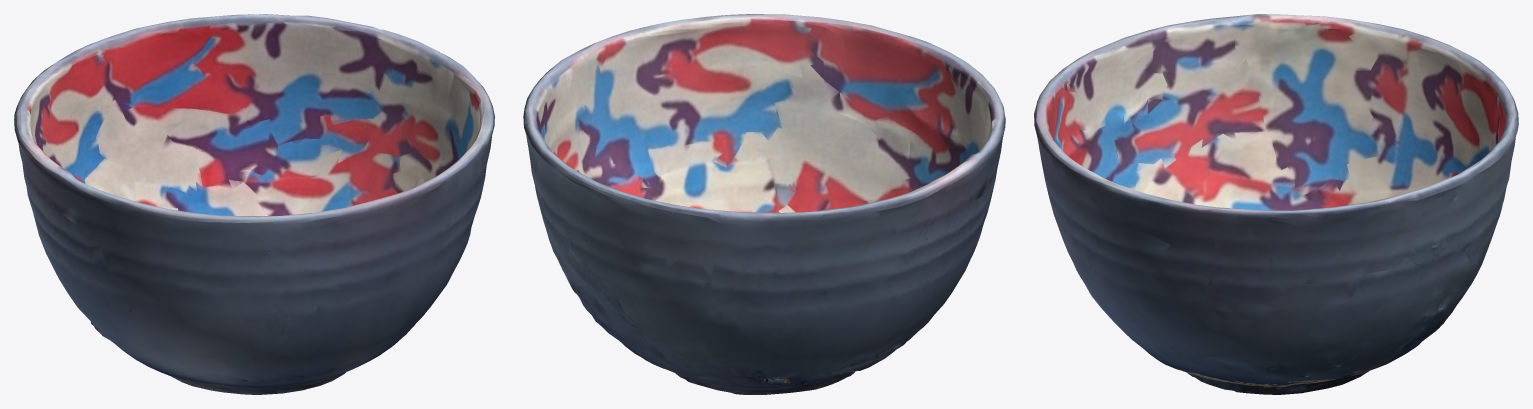
The model's file is Bowl.obj.
3 views of the same model, side by side, from view 1: azimuth 30°, elevation 25°; view 2: azimuth 150°, elevation 25°; view 3: azimuth 270°, elevation 25° (orthographic).
Size of the model in its own units: 0.1501 by 0.0817 by 0.1505.
Materials: 1 (1 with a texture image).
